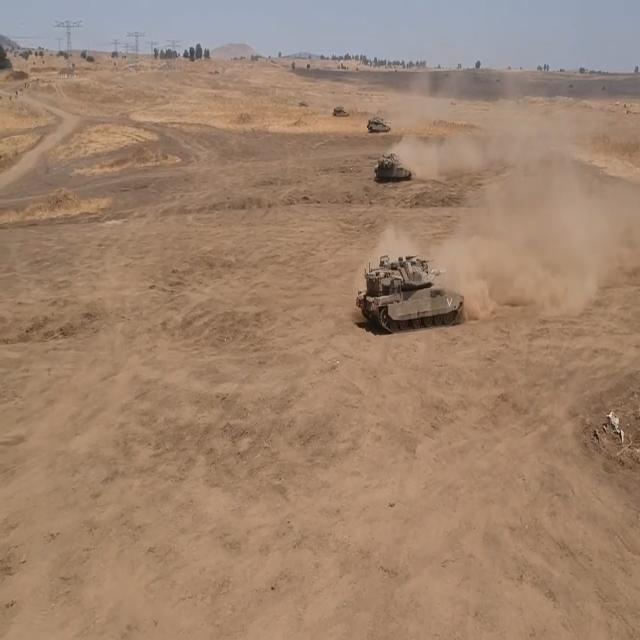tank: (362, 252, 464, 325), (372, 143, 410, 184), (368, 109, 392, 138), (332, 95, 349, 119)
